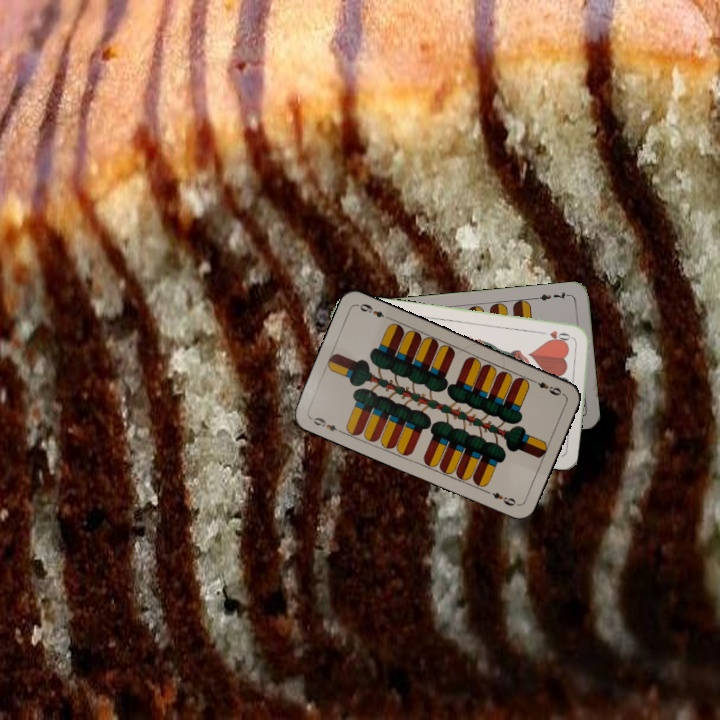E7: (532, 288, 573, 303)
E9: (527, 375, 566, 398), (306, 413, 345, 436)
HO: (536, 326, 576, 344)
